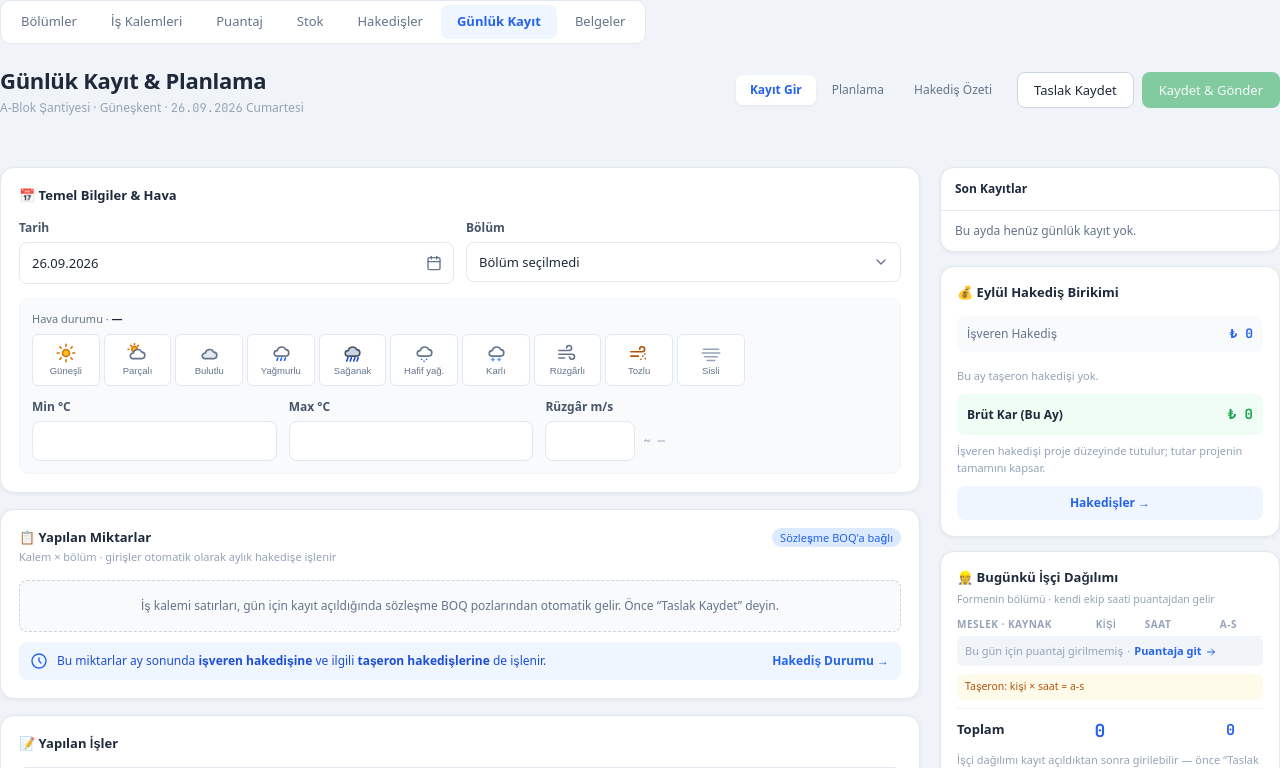
Test: SiteDiaryEntryView · 409 akışı › aynı güne ikinci kayıtta Türkçe mesaj + 'Var olan kaydı aç' yolu basılır
Click the button "Taslak Kaydet": (1075,90) [1017,72,1134,108]
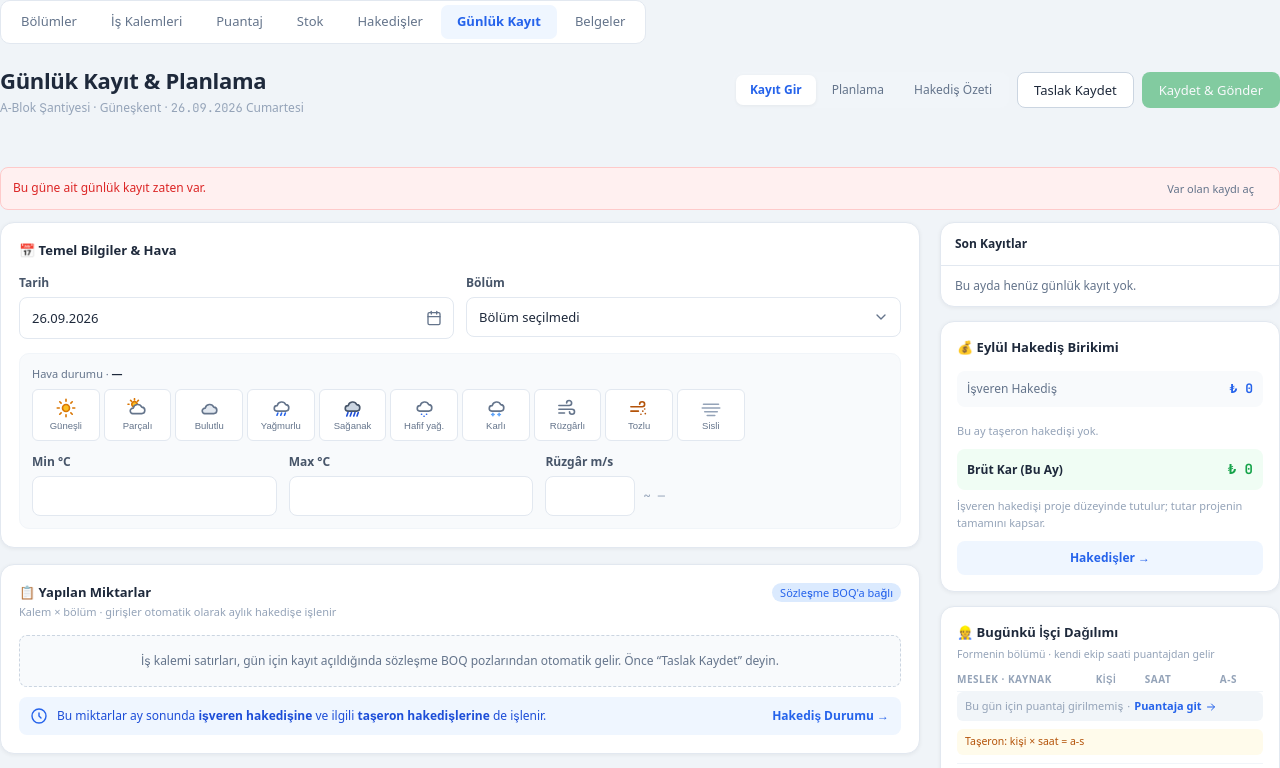
Check: the text "Bu güne ait günlük kayıt zaten var." is shown, box [13,179,206,197]
Click the button "Var olan kaydı aç": (1211,188) [1154,176,1267,200]
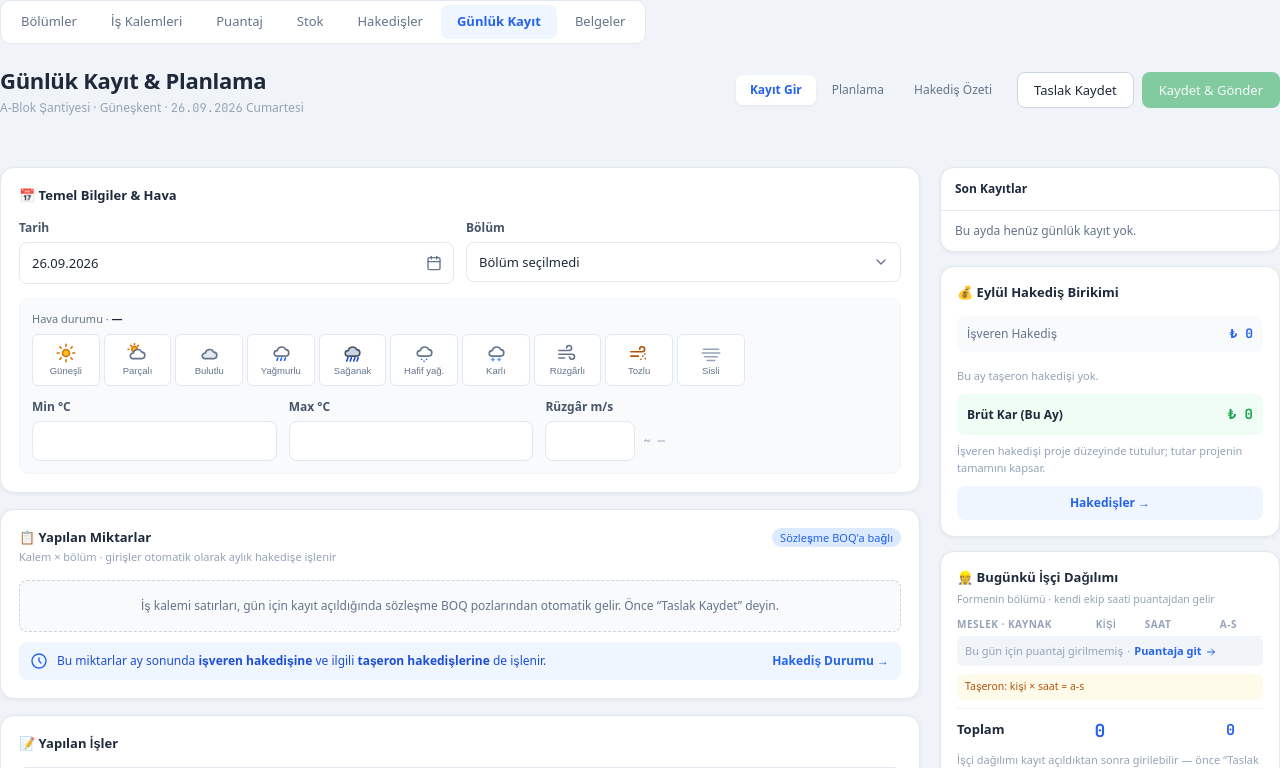
Check: the button "Var olan kaydı aç" is gone
